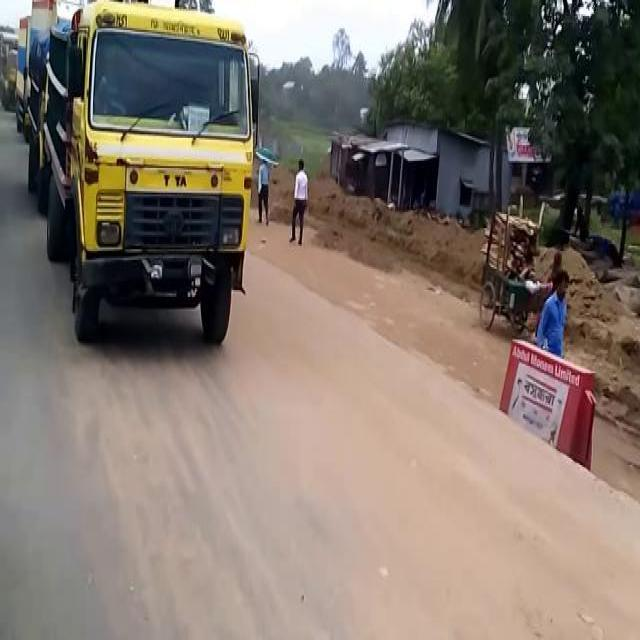vehicle: (41, 1, 262, 344), (28, 1, 79, 33), (15, 15, 27, 125)
